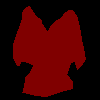giaccone: (12, 6, 86, 96)
